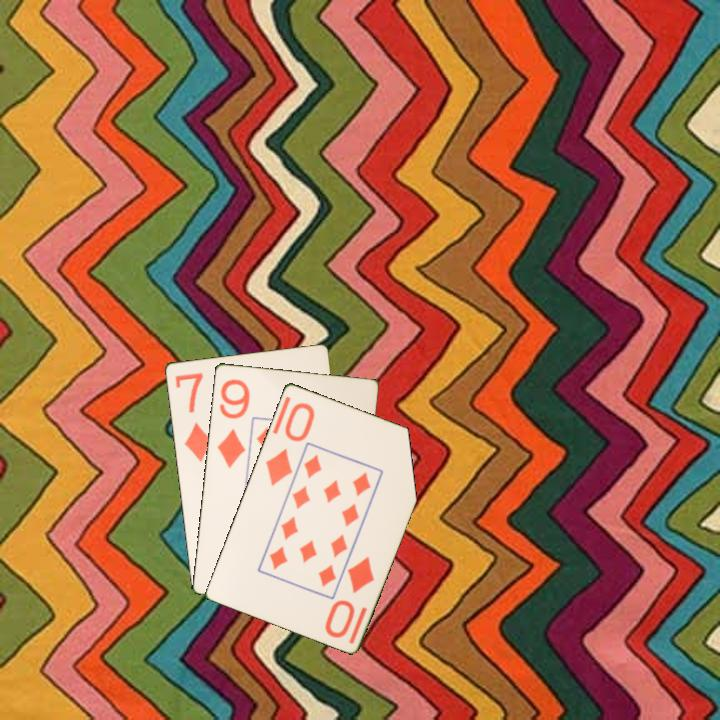10d: (261, 398, 318, 488), (321, 552, 377, 641)
7d: (171, 369, 215, 464)
9d: (213, 375, 253, 471)
